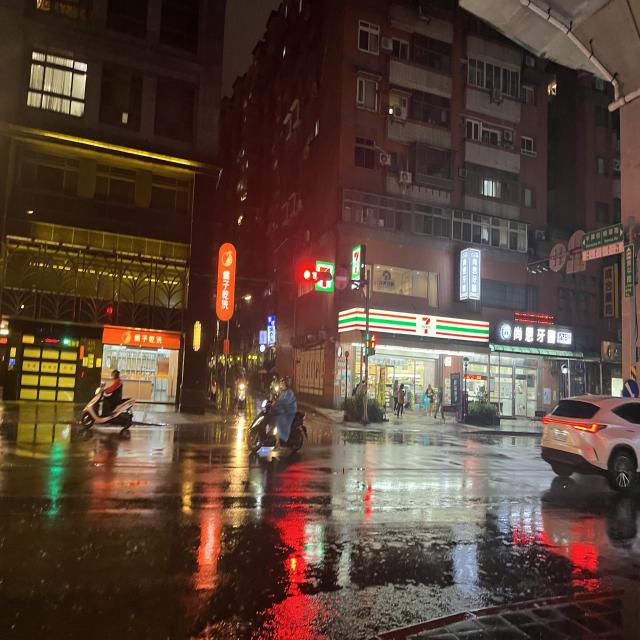red light: (302, 268, 332, 284)
